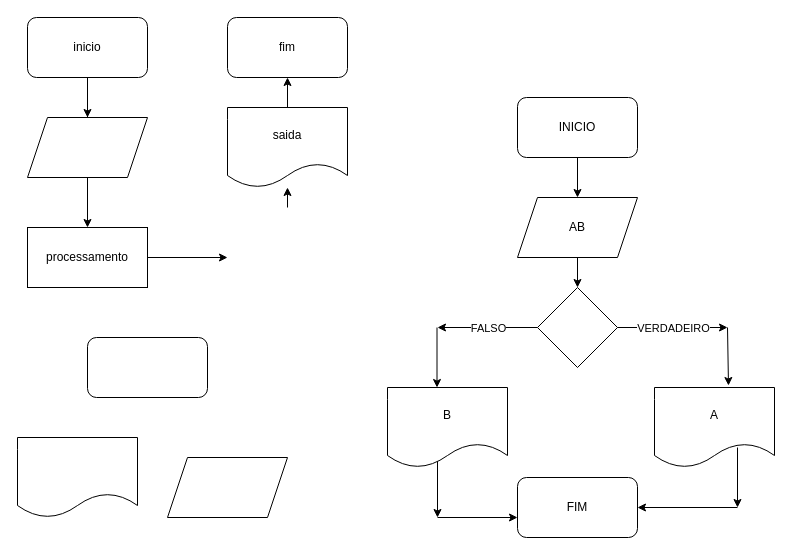
The diagram is 792 pixels wide and 555 high, and some of its shapes have lost their labels. Each missing label, with the centre of its shape:
"A>B" belongs at point 577,327.
"C=3" belongs at point 77,477.
"C=A+B" belongs at point 227,487.
"entrada" belongs at point 87,147.
